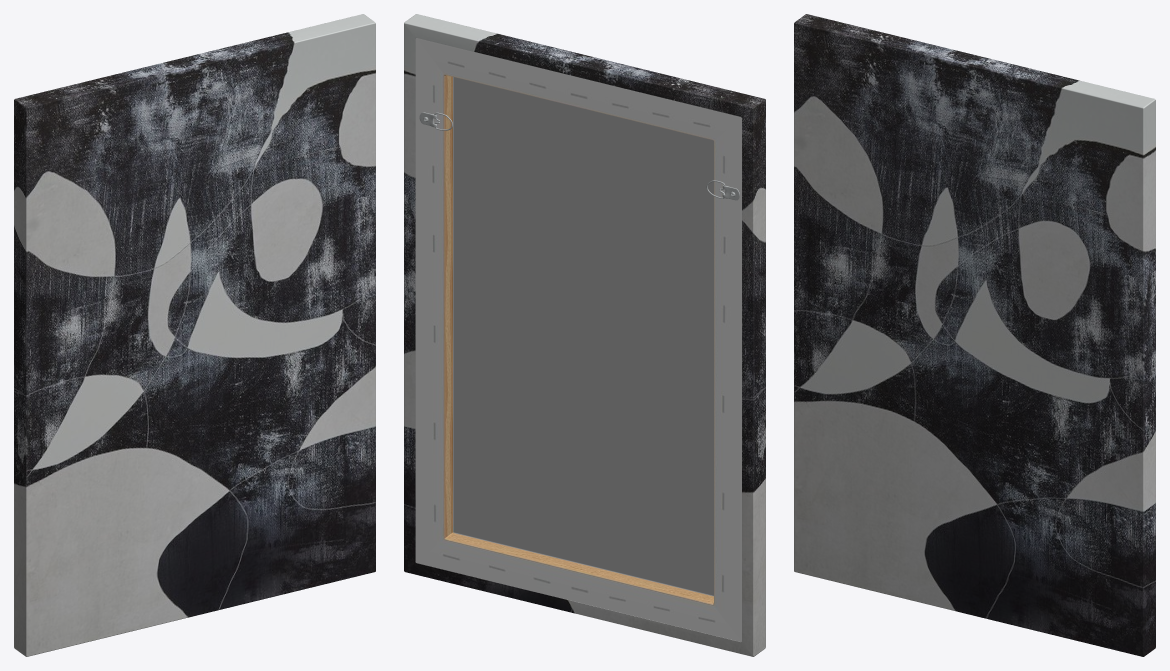
The model's file is B073P1CJGC.glb.
3 renders of one model, left to right at view 1: azimuth 30°, elevation 25°; view 2: azimuth 150°, elevation 25°; view 3: azimuth 330°, elevation 25°, orthographic.
Visible parts, largest first — view 1: RootNode; view 2: RootNode; view 3: RootNode.
Part boxes in pixels (<box>): RootNode: <box>14,14,375,656</box>; RootNode: <box>404,14,765,656</box>; RootNode: <box>794,14,1155,656</box>.
Bounding box in the file's own units: 0.6099 × 0.9149 × 0.0409.
1 material, 1 textured.
